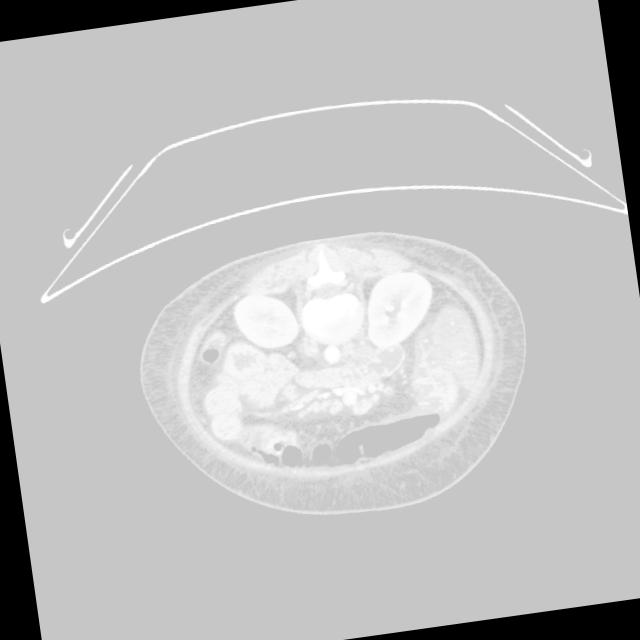NORMAL: (129, 211, 554, 533)
